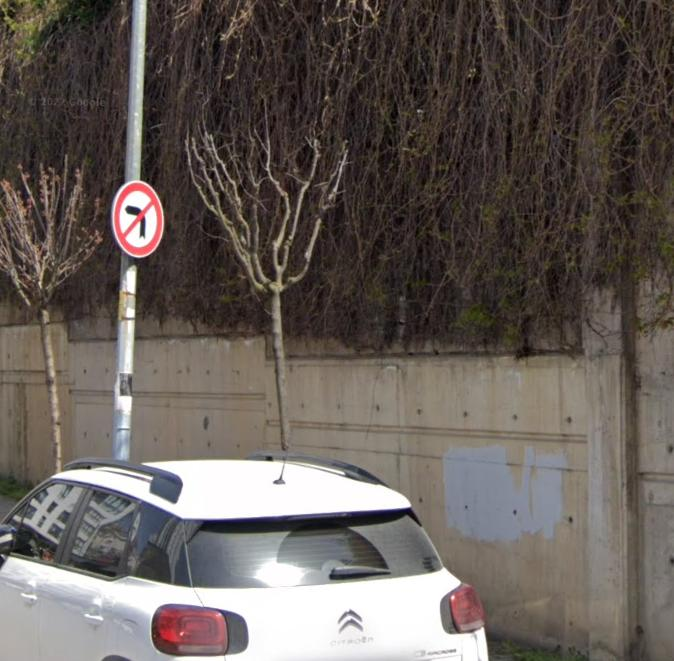leftturnsareforbidden: (115, 181, 168, 259)
